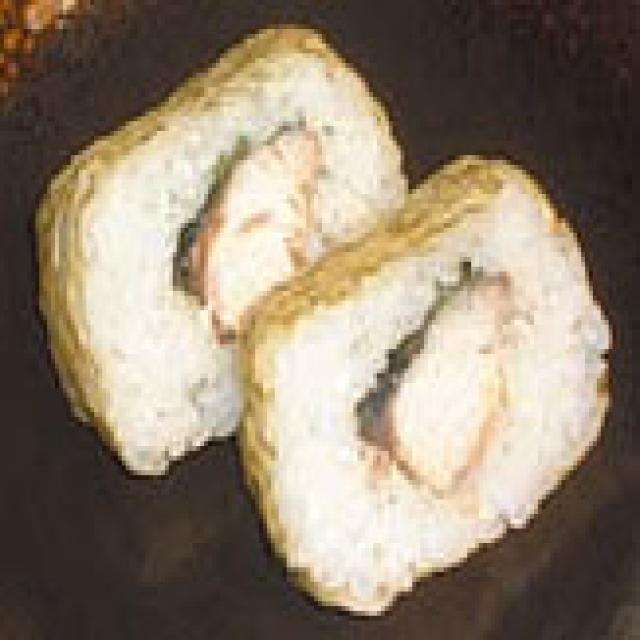寿司卷物: (0, 19, 620, 601)
